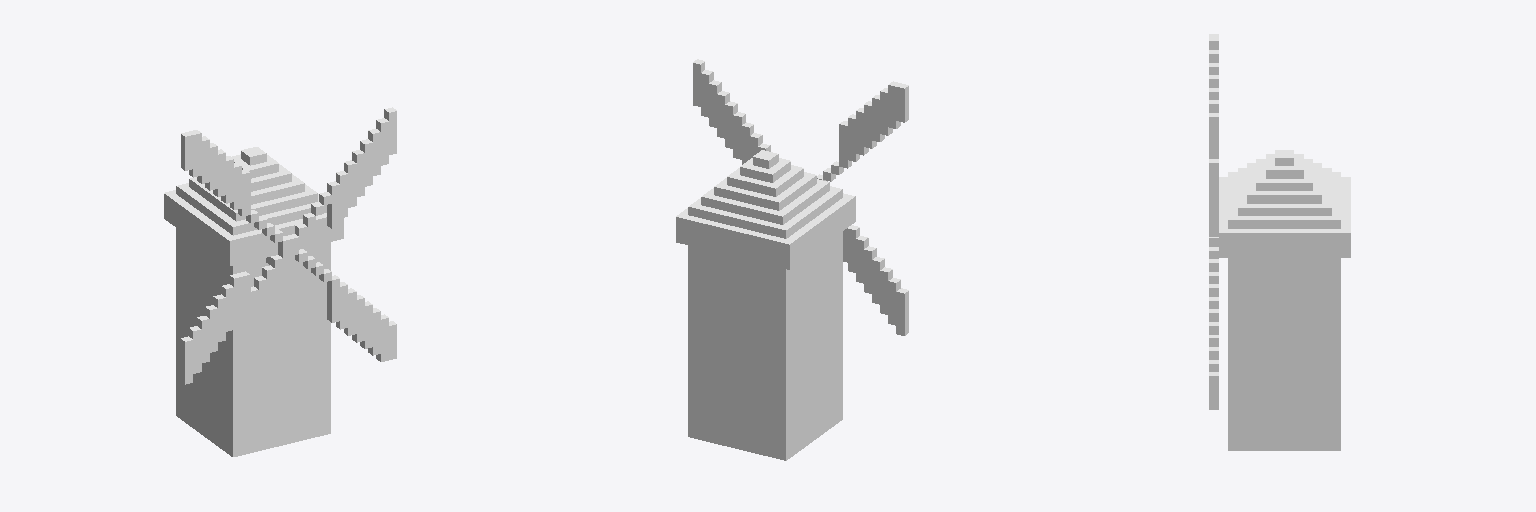
File: windmill.obj
The picture shows the model from 3 angles: view 1: azimuth 30°, elevation 25°; view 2: azimuth 150°, elevation 25°; view 3: azimuth 270°, elevation 25°; orthographic projection.
Parts seen in each view (by area): view 1: object 1; view 2: object 1; view 3: object 1.
Part boxes in pixels (x1,y1,x2,y2): object 1: (164, 107, 396, 456); object 1: (676, 59, 908, 460); object 1: (1209, 34, 1350, 450).
Bounding box in the file's own units: 2.6 × 4 × 1.5.